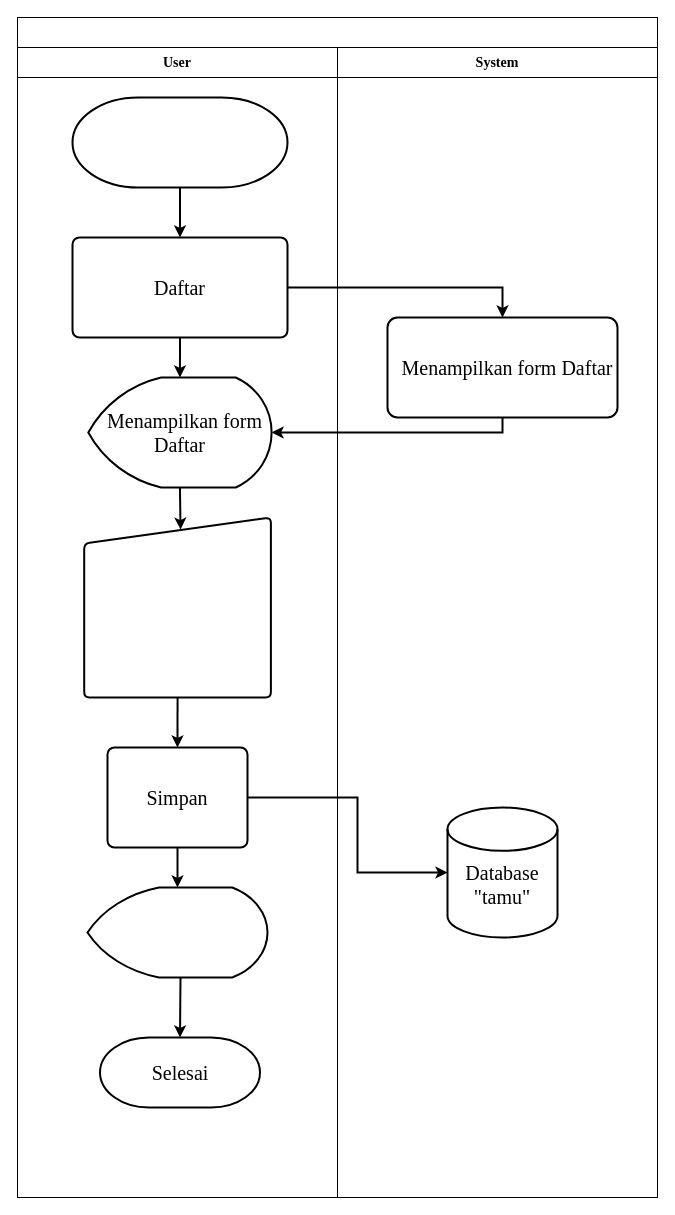
The diagram is 675 pixels wide and 1215 high, and some of its shapes have lost their labels. Here are the shapes that lost their labels. From the top down, the centre of each, then its label:
At (x=337, y=32): "Registrasi".
At (x=179, y=142): "Mulai".
At (x=177, y=607): "Input username, email, nama lengkap, alamat, telepon, dan password".
At (x=177, y=932): "Menampilkan halaman Login".
